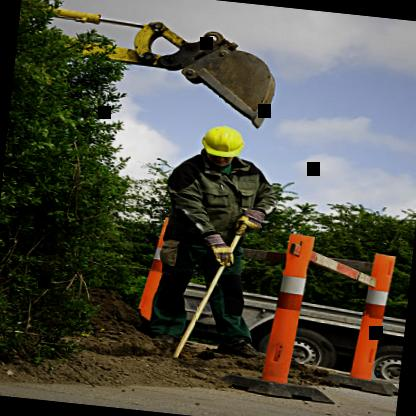helmet: (194, 118, 252, 176)
